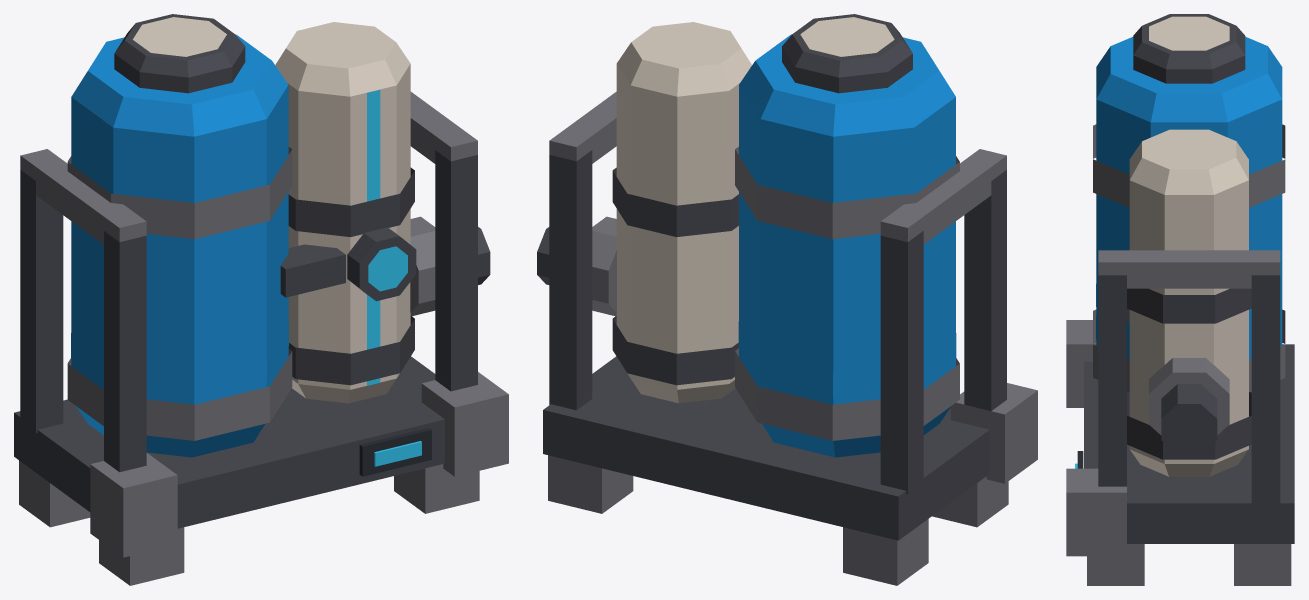
The model's file is water_stationary.glb.
The picture shows the model from 3 angles, left to right: view 1: azimuth 30°, elevation 25°; view 2: azimuth 150°, elevation 25°; view 3: azimuth 270°, elevation 25°; orthographic projection. The views are drawn at different scales.
Visible parts, largest first — view 1: Support_Frame.006, Main_Vessel.006, Auxiliary_Vessel.006, Main_Strap.012, Main_Strap.013, Fill_Cap.006, Lower_Colour_Band.006, Auxiliary_Strap.013, Auxiliary_Strap.012, Anchor_Foot.010, Tap_Bridge.006, Cap_Inset.006 (+8 smaller); view 2: Support_Frame.006, Main_Vessel.006, Auxiliary_Vessel.006, Main_Strap.012, Main_Strap.013, Fill_Cap.006, Lower_Colour_Band.006, Auxiliary_Strap.013, Auxiliary_Strap.012, Anchor_Foot.009, Anchor_Foot.011, Cap_Inset.006 (+2 smaller); view 3: Support_Frame.006, Auxiliary_Vessel.006, Main_Vessel.006, Fill_Cap.006, Pipe_Outlet.002, Auxiliary_Strap.013, Pipe_Collar.002, Main_Strap.013, Auxiliary_Strap.012, Anchor_Foot.011, Cap_Inset.006, Anchor_Foot.010 (+2 smaller).
Boxes of the visible parts, x1,y1,x2,y2 form: Support_Frame.006: [14, 91, 508, 557]; Main_Vessel.006: [71, 34, 288, 457]; Auxiliary_Vessel.006: [275, 22, 410, 403]; Main_Strap.012: [67, 348, 292, 440]; Main_Strap.013: [67, 147, 292, 239]; Fill_Cap.006: [114, 14, 245, 93]; Lower_Colour_Band.006: [71, 321, 288, 398]; Auxiliary_Strap.013: [288, 167, 414, 237]; Auxiliary_Strap.012: [288, 316, 414, 385]; Anchor_Foot.010: [394, 464, 479, 513]; Tap_Bridge.006: [280, 244, 345, 297]; Cap_Inset.006: [133, 17, 226, 56]; Support_Frame.006: [543, 91, 1037, 540]; Main_Vessel.006: [739, 34, 955, 457]; Auxiliary_Vessel.006: [616, 22, 751, 403]; Main_Strap.012: [735, 348, 959, 440]; Main_Strap.013: [735, 146, 959, 239]; Fill_Cap.006: [782, 14, 912, 93]; Lower_Colour_Band.006: [738, 321, 956, 398]; Auxiliary_Strap.013: [612, 167, 738, 237]; Auxiliary_Strap.012: [612, 316, 738, 385]; Anchor_Foot.009: [843, 519, 928, 585]; Anchor_Foot.011: [548, 455, 633, 513]; Cap_Inset.006: [800, 17, 894, 56]; Support_Frame.006: [1066, 250, 1294, 556]; Auxiliary_Vessel.006: [1129, 129, 1248, 476]; Main_Vessel.006: [1096, 36, 1282, 392]; Fill_Cap.006: [1133, 14, 1245, 83]; Pipe_Outlet.002: [1161, 384, 1217, 454]; Auxiliary_Strap.013: [1127, 288, 1251, 323]; Pipe_Collar.002: [1149, 358, 1229, 435]; Main_Strap.013: [1093, 124, 1285, 207]; Auxiliary_Strap.012: [1127, 392, 1251, 459]; Anchor_Foot.011: [1234, 544, 1291, 585]; Cap_Inset.006: [1149, 16, 1229, 50]; Anchor_Foot.010: [1087, 544, 1144, 585].
Bounding box in the file's own units: 1.39 × 1.53 × 0.715.
